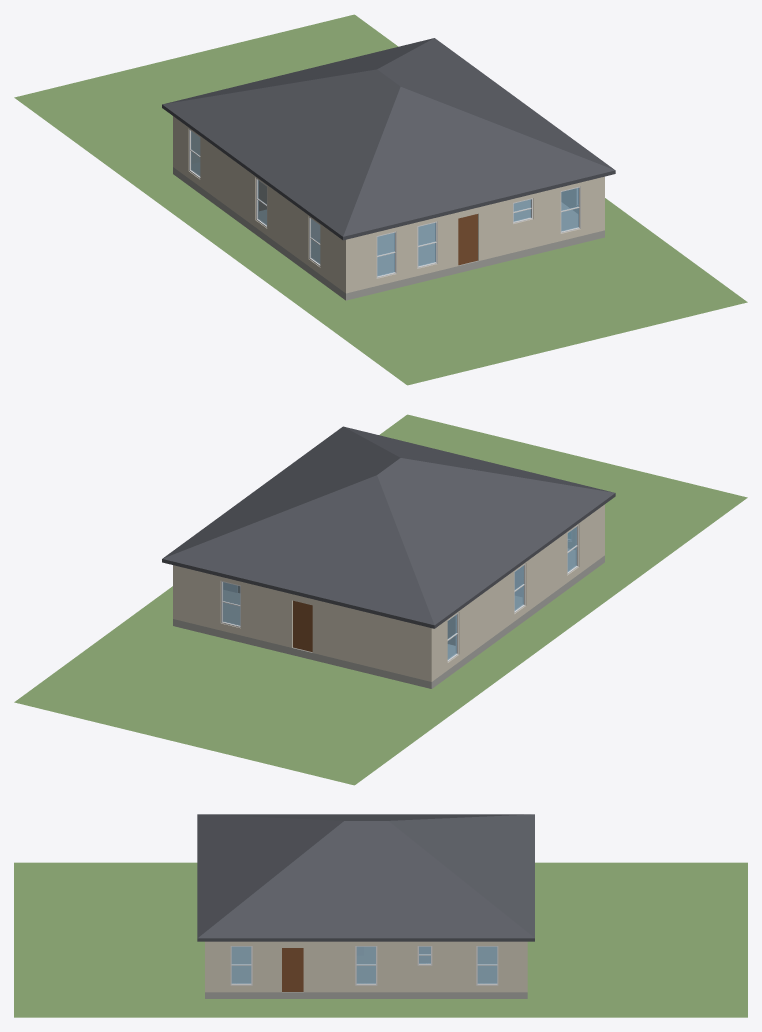
3 renders of one model, top to bottom at view 1: azimuth 30°, elevation 25°; view 2: azimuth 150°, elevation 25°; view 3: azimuth 270°, elevation 25°, orthographic. The views are drawn at different scales.
Visible parts, largest first — view 1: SITE, ROOF, ext-front, ext-left, SLAB-L1, D01, N01, N05, N02; view 2: SITE, ROOF, ext-back, ext-left, SLAB-L1, D03, N10; view 3: SITE, ROOF, ext-right, SLAB-L1, D02, N06, N11, N09.
Boxes of the visible parts, box(x1,y1,x2,y2) form: SITE: box(14, 14, 747, 385); ROOF: box(162, 38, 615, 240); ext-front: box(344, 176, 604, 293); ext-left: box(175, 117, 343, 291); SLAB-L1: box(173, 162, 604, 300); D01: box(458, 214, 477, 265); N01: box(377, 232, 394, 276); N05: box(561, 187, 578, 231); N02: box(418, 222, 435, 266); SITE: box(14, 414, 747, 785); ROOF: box(162, 426, 615, 628); ext-back: box(173, 565, 433, 681); ext-left: box(433, 506, 602, 680); SLAB-L1: box(173, 548, 604, 688); D03: box(293, 600, 312, 652); N10: box(222, 582, 240, 625); SITE: box(14, 862, 747, 1017); ROOF: box(197, 814, 534, 941); ext-right: box(208, 941, 523, 992); SLAB-L1: box(205, 947, 527, 998); D02: box(282, 948, 303, 991); N06: box(231, 946, 251, 983); N11: box(477, 946, 497, 983); N09: box(356, 946, 375, 983).
Bounding box in the file's own units: 15.24 × 5.46 × 30.48.
